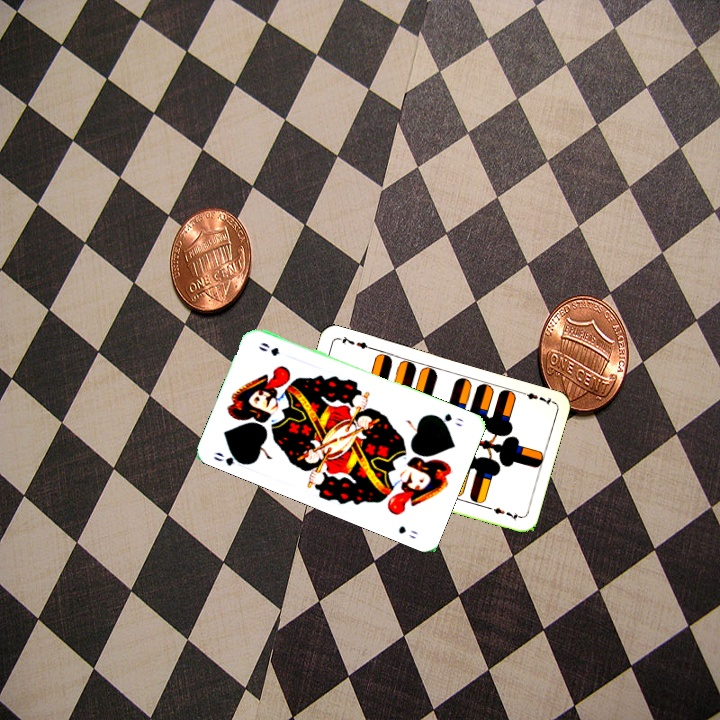E7: (515, 387, 555, 408)
GO: (209, 448, 250, 469), (430, 409, 467, 429)
